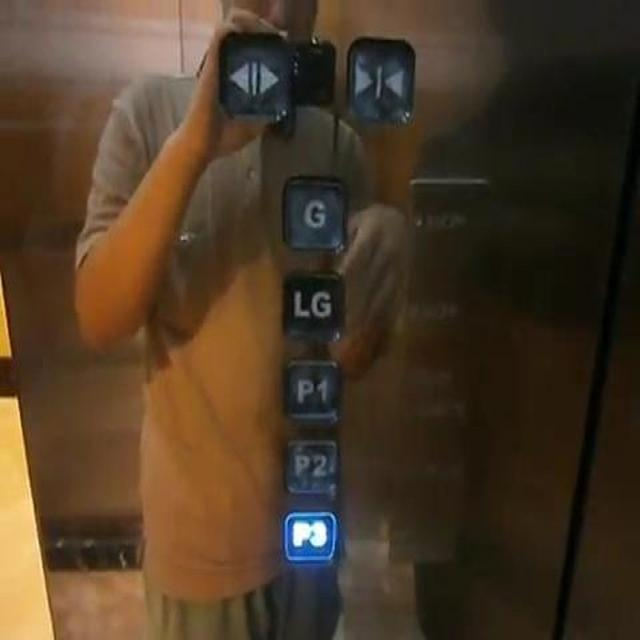G: (278, 169, 348, 256)
LG: (278, 268, 348, 343)
P1: (279, 352, 345, 425)
P2: (280, 432, 343, 503)
P3: (282, 508, 337, 561)
close: (342, 32, 416, 127)
open: (220, 31, 292, 121)
